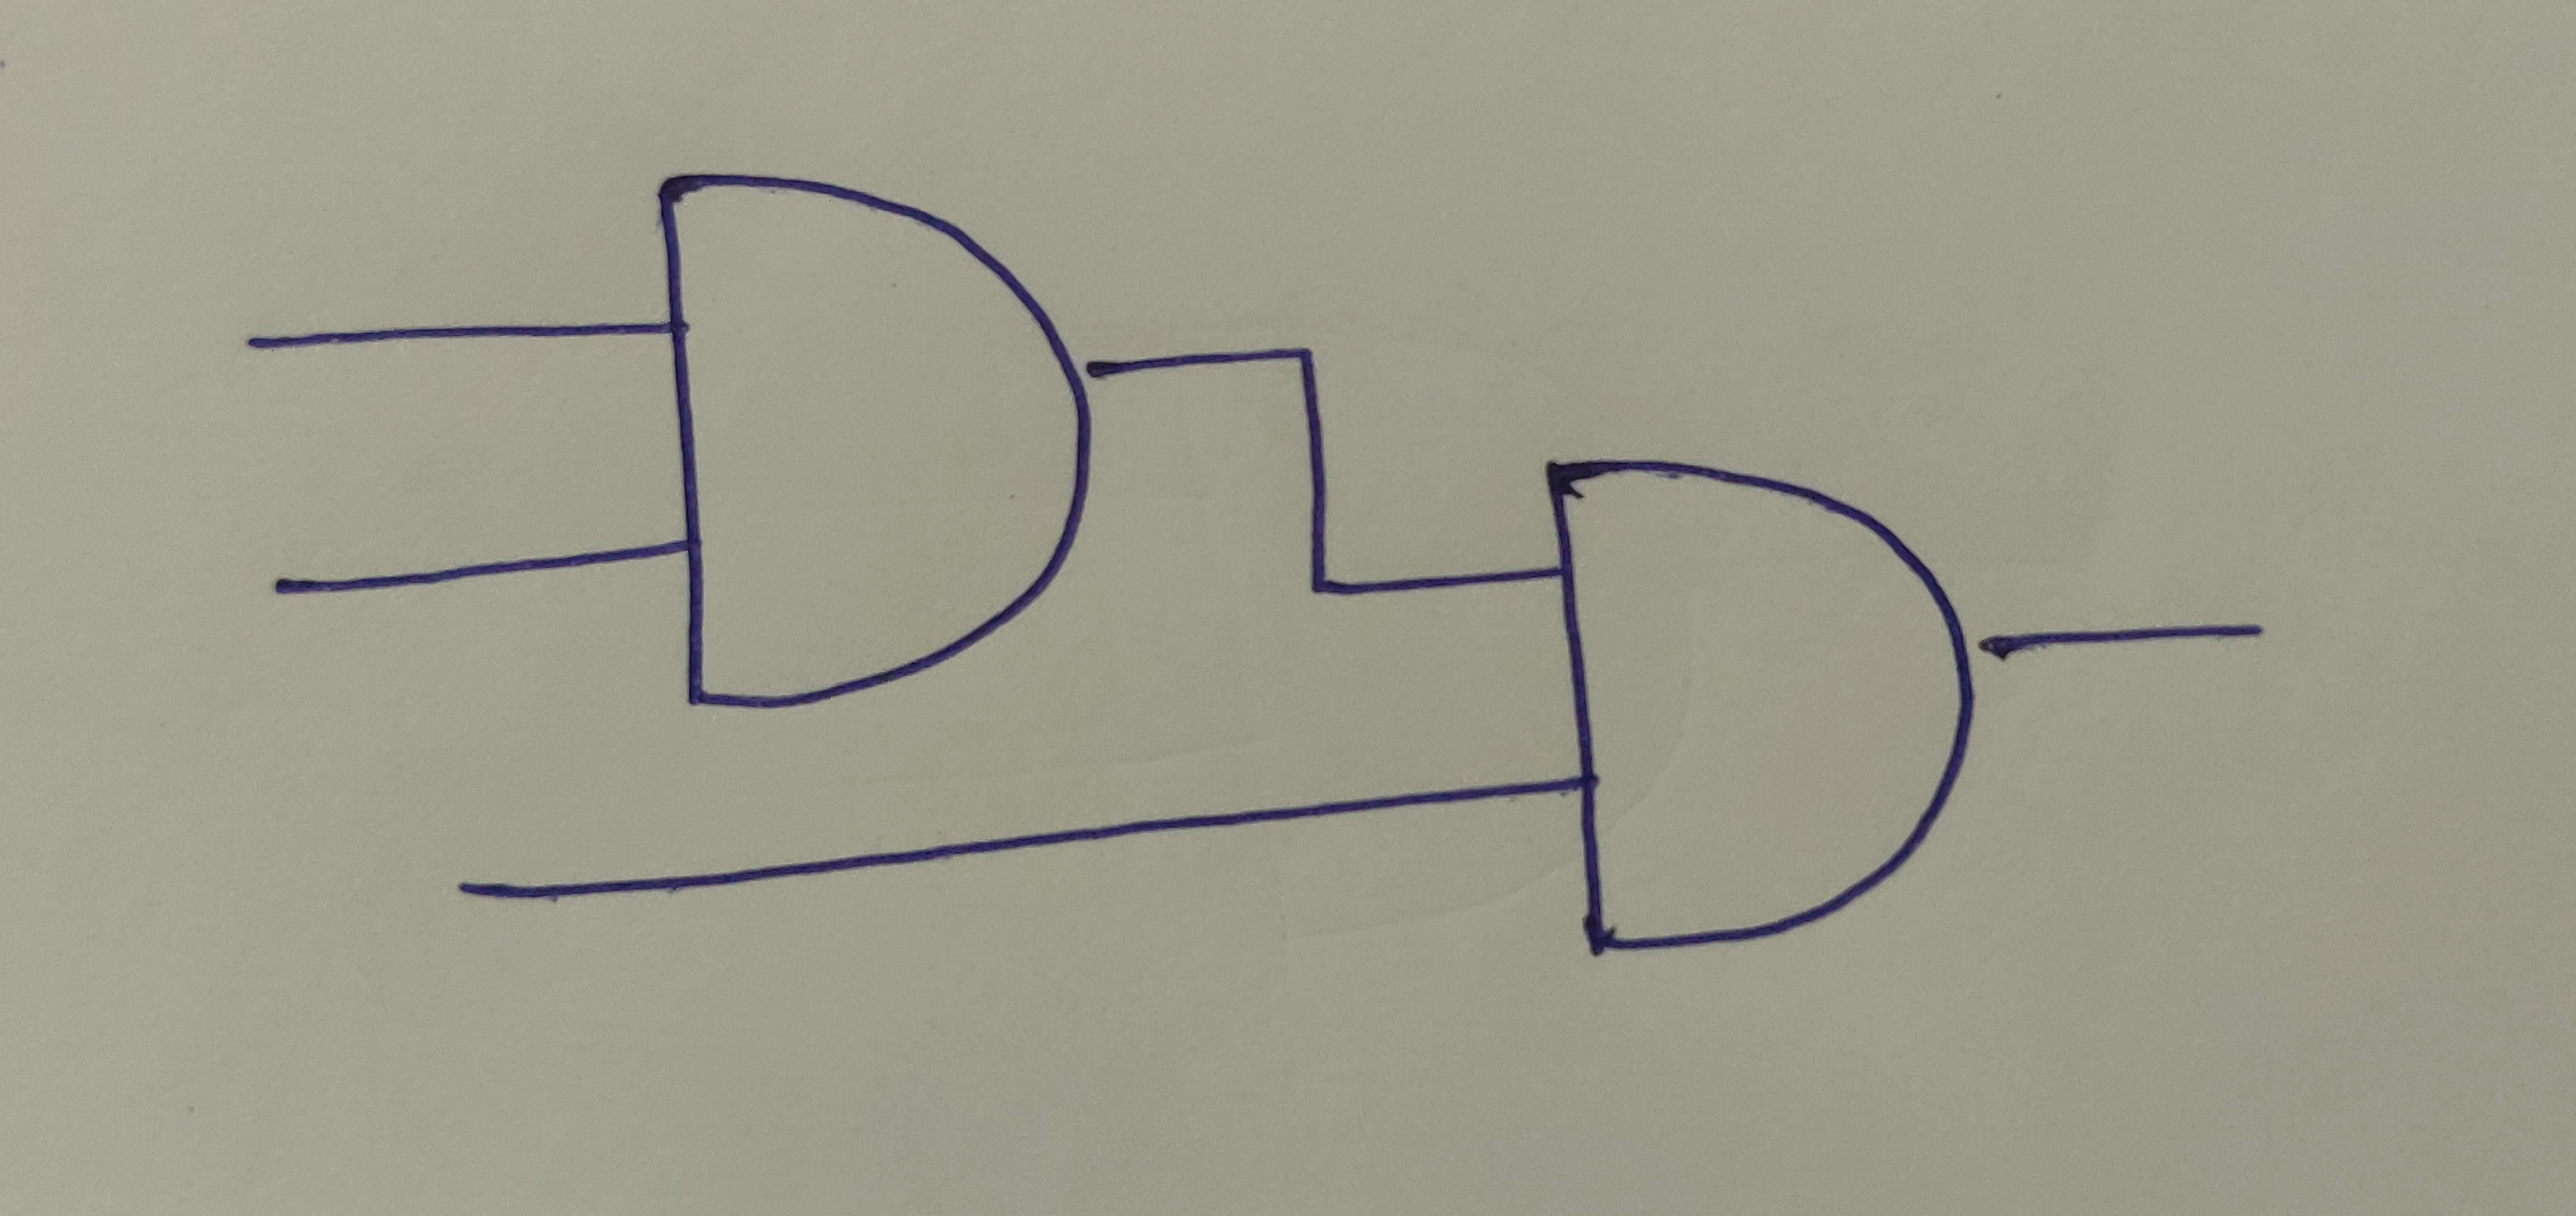and: (652, 169, 1096, 712), (1541, 450, 1980, 958)
